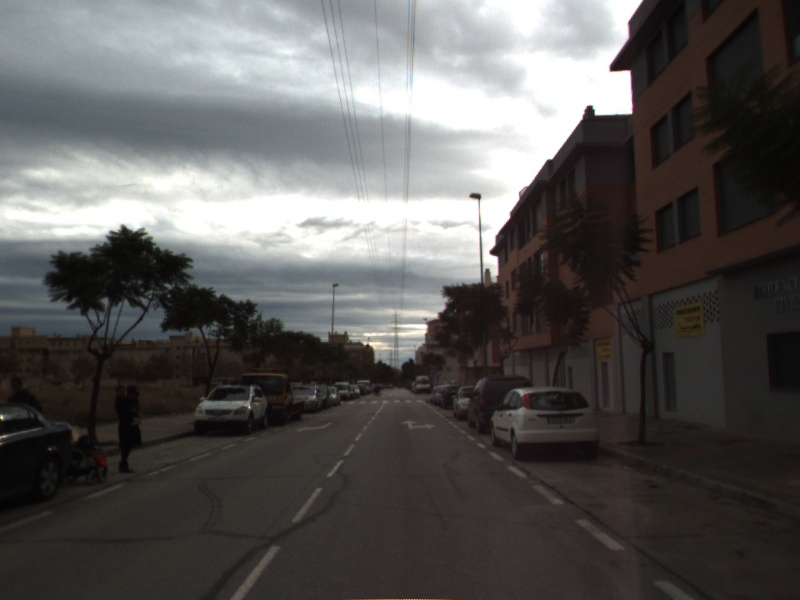STRAIGHT_RIGHT: (399, 418, 438, 431)
